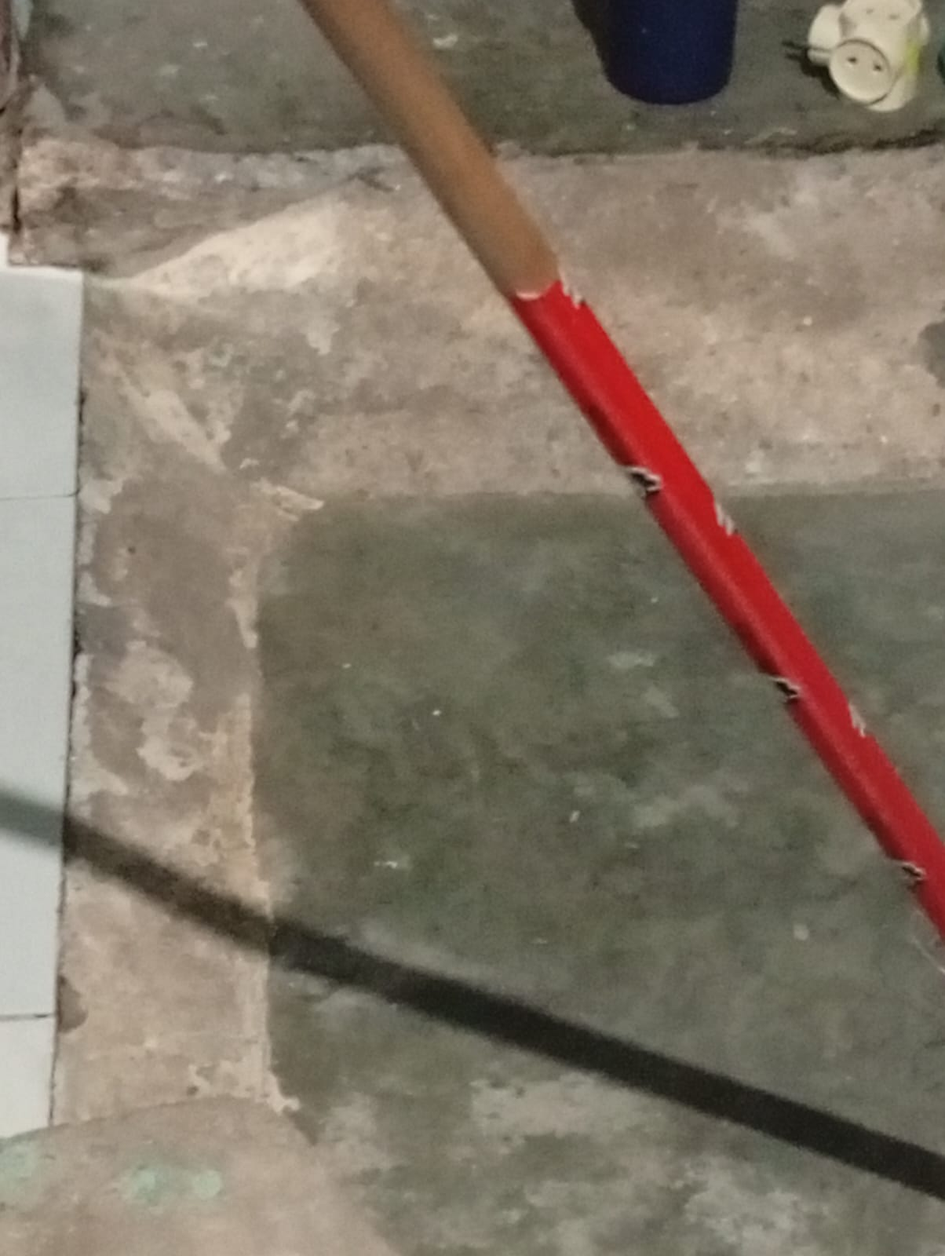Colokan: (762, 3, 945, 113)
